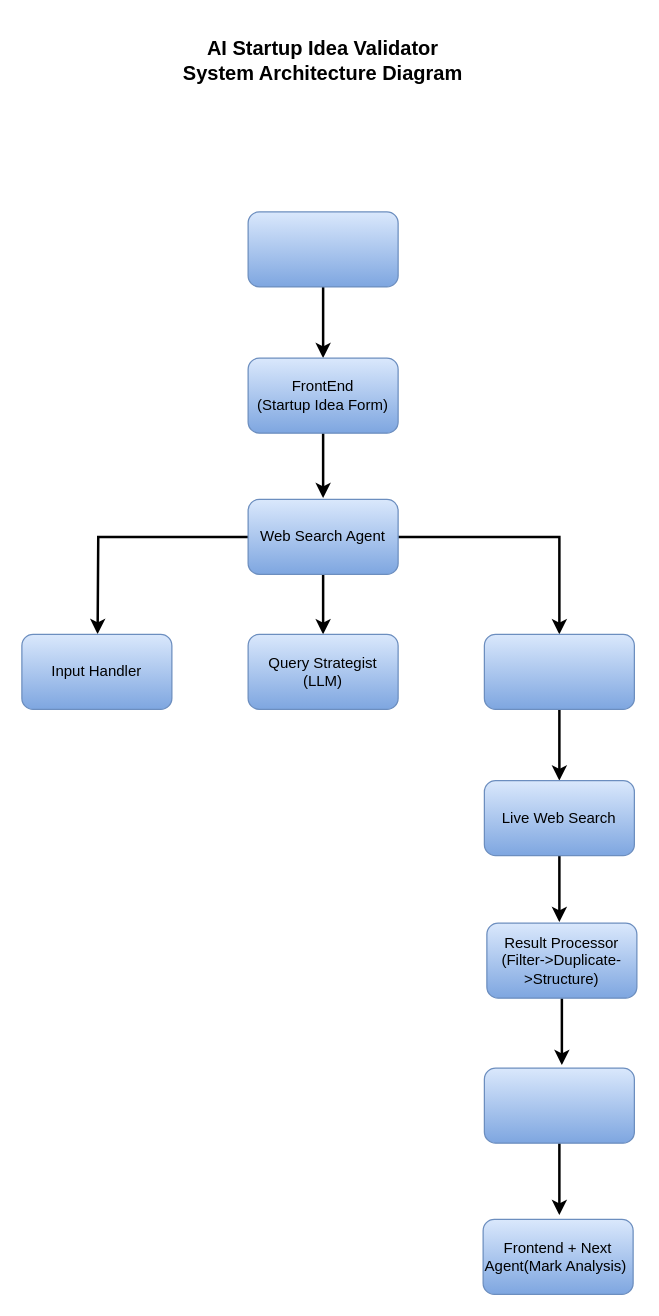
The diagram is 659 pixels wide and 1316 high, and some of its shapes have lost their labels. Here are the shapes that lost their labels. From the top down, the centre of each, then its label:
At pixel 322 249: "User".
At pixel 558 671: "Search Executor (Tavily API)".
At pixel 558 1105: "Structured JSON Response".
